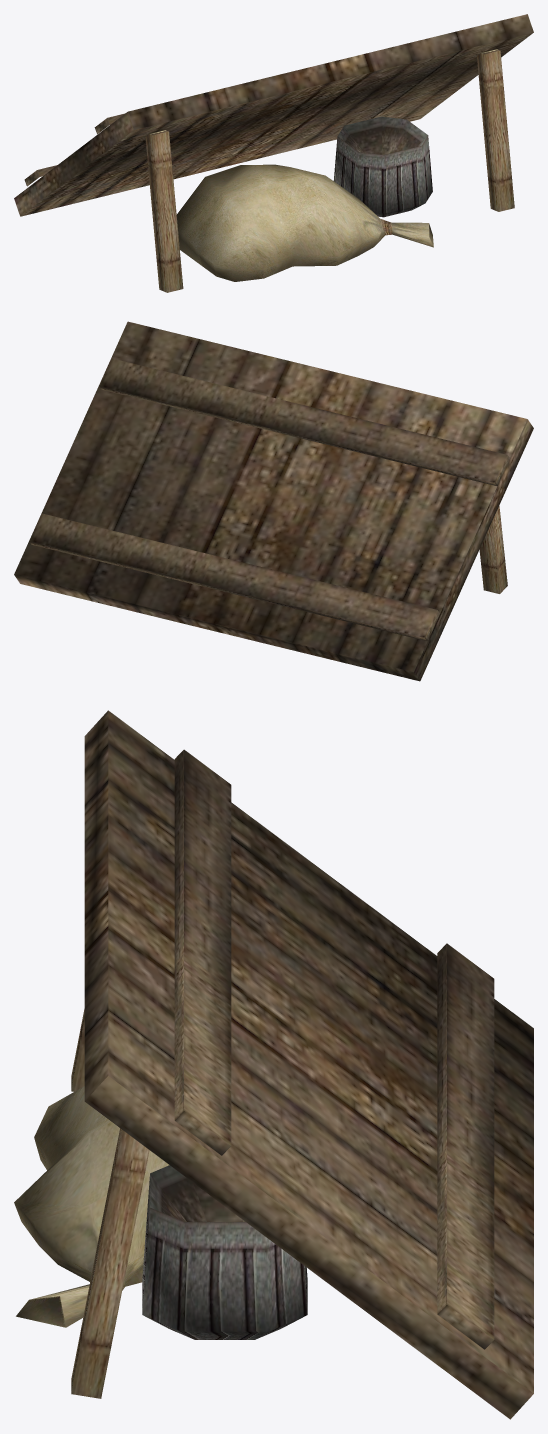
The model's file is oas_kara_obj01.glb.
3 views of the same model, one above another, from view 1: azimuth 30°, elevation 25°; view 2: azimuth 150°, elevation 25°; view 3: azimuth 270°, elevation 25° (orthographic). The views are drawn at different scales.
Parts seen in each view (by area): view 1: oas_kara_obj01; view 2: oas_kara_obj01; view 3: oas_kara_obj01.
Part boxes in pixels (x1,y1,x2,y2): oas_kara_obj01: (14, 14, 533, 292); oas_kara_obj01: (14, 321, 533, 681); oas_kara_obj01: (14, 710, 533, 1419).
Size of the model in its own units: 2.29 by 1.02 by 1.38.
Materials: 2 (2 with a texture image).
